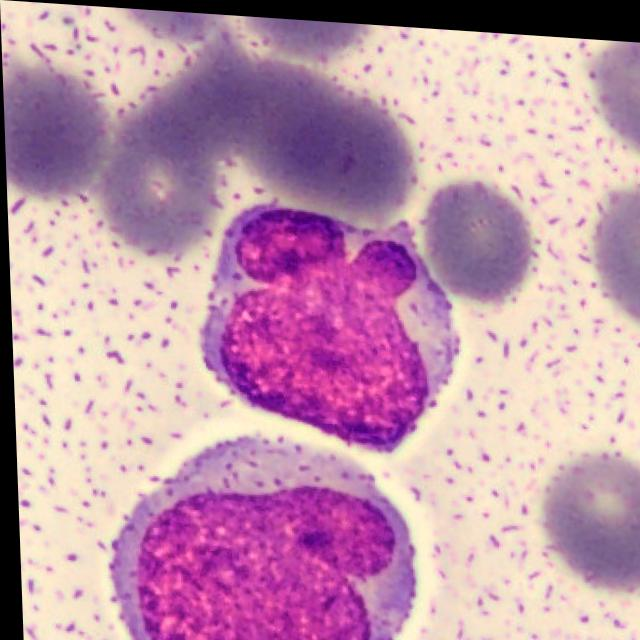Mieloblasto: (198, 195, 456, 447), (105, 433, 412, 640)
